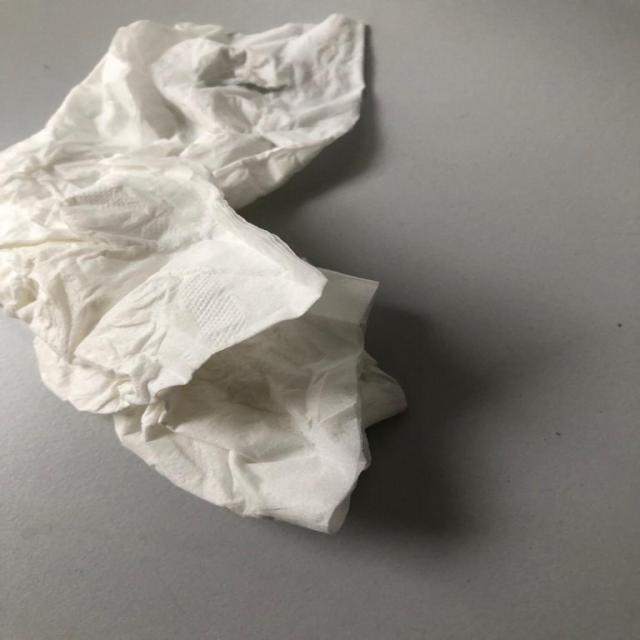kitchen paper: (0, 3, 429, 539)
